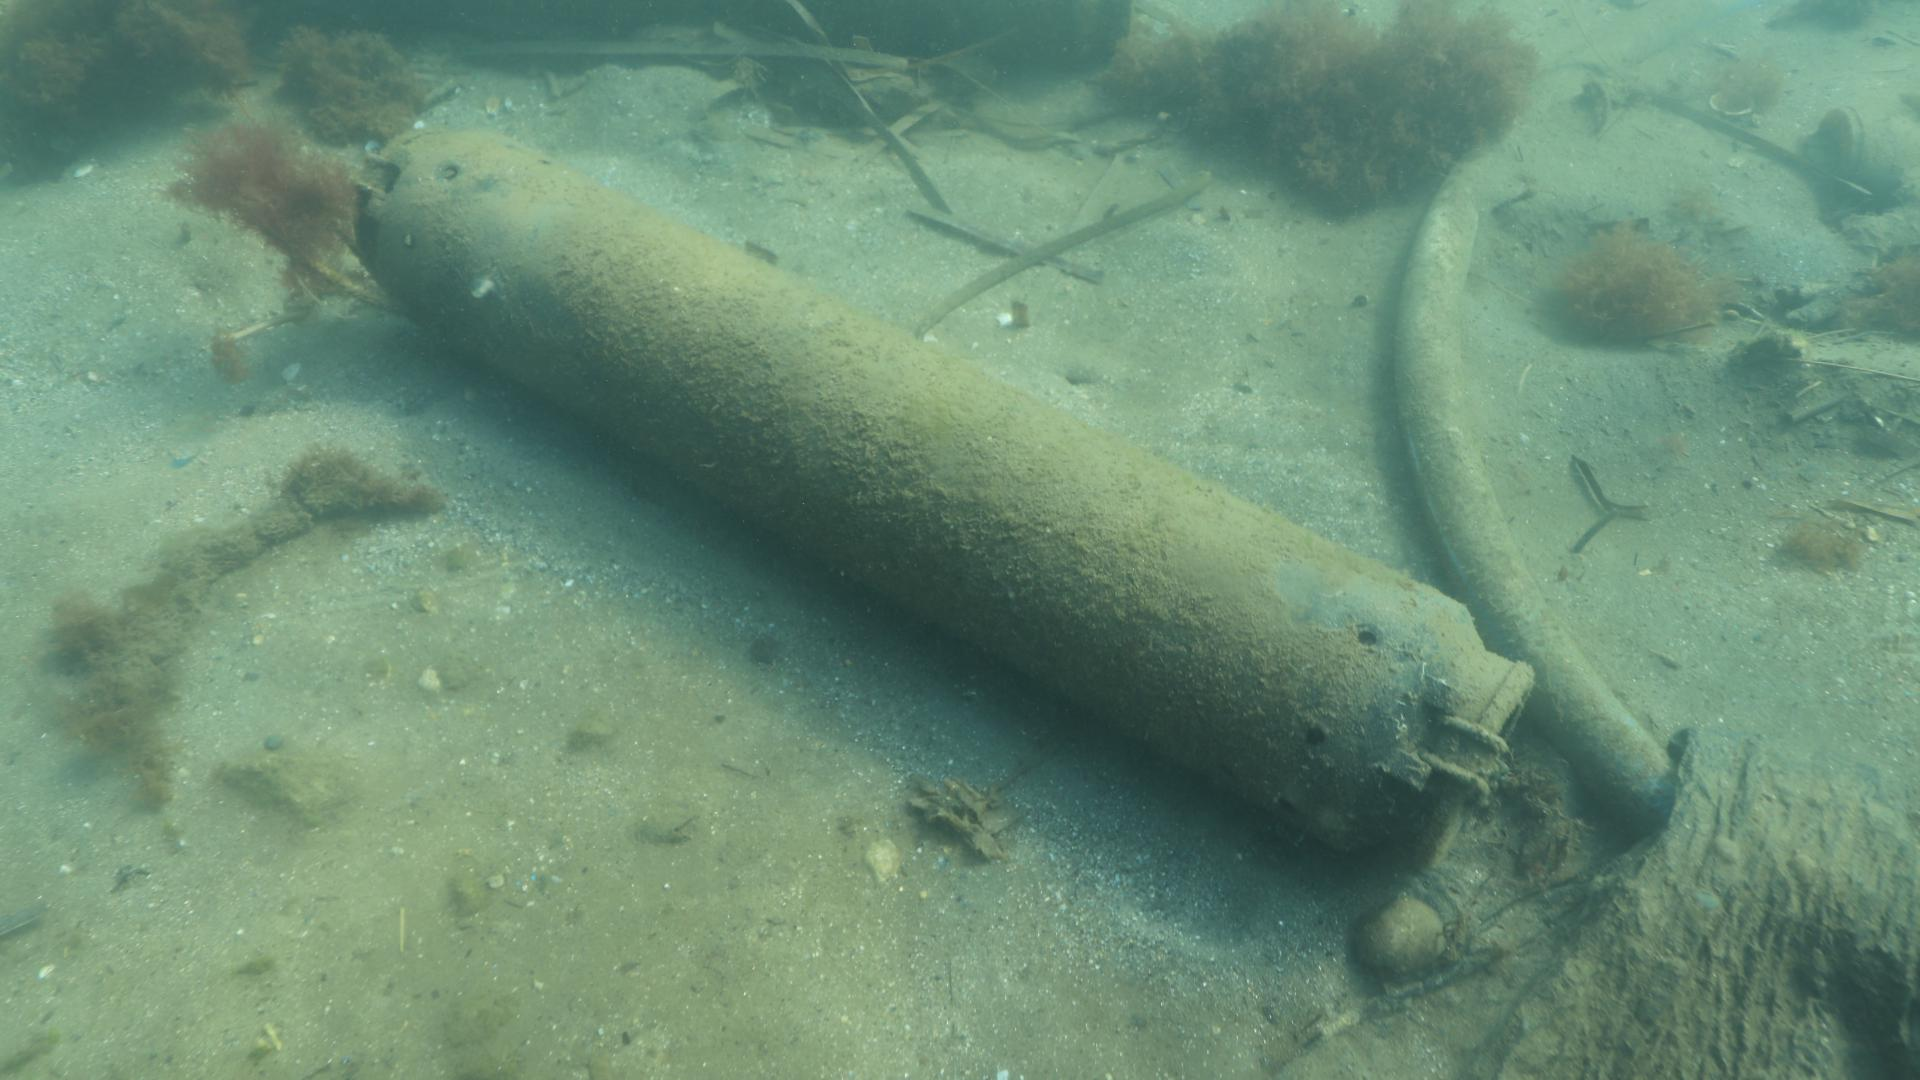eel fish trap: (342, 123, 1534, 866)
